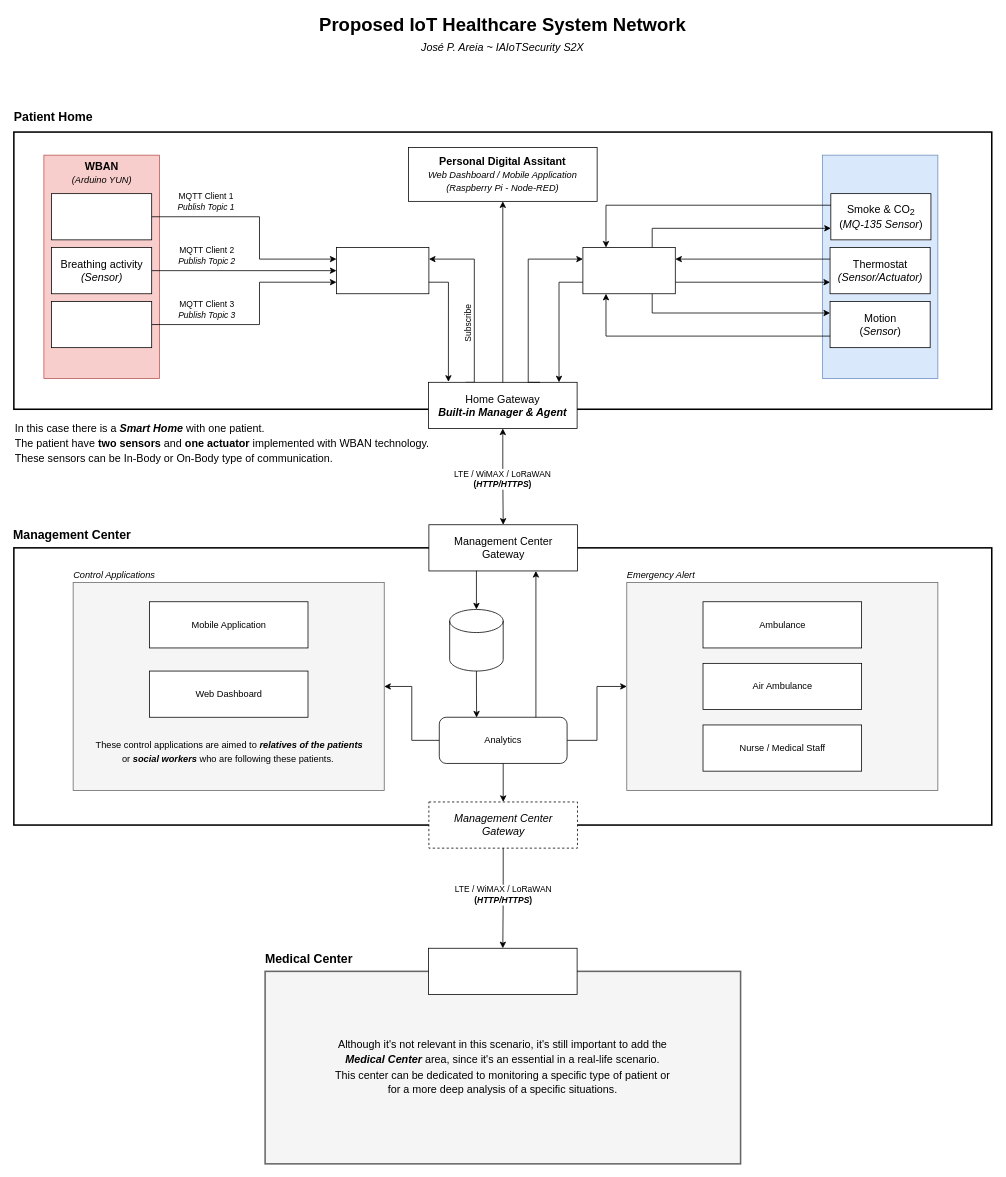
The diagram is 1006 pixels wide and 1177 high, and some of its shapes have lost their labels. The box of each missing label's shape, as (x1, y1, x2, y2) in pixels:
CoAP Server (Raspberry Pi): (582, 247, 675, 294)
DB: (449, 609, 503, 671)
ECG & Heart Rate (Sensor): (51, 193, 152, 240)
General Area (ESP8266/ESP32): (822, 154, 938, 378)
Insulin Pump (Sensor/Actuator): (51, 301, 152, 348)
Medical Gateway: (428, 947, 577, 994)
MQTT Broker (Raspberry Pi): (336, 247, 429, 294)
